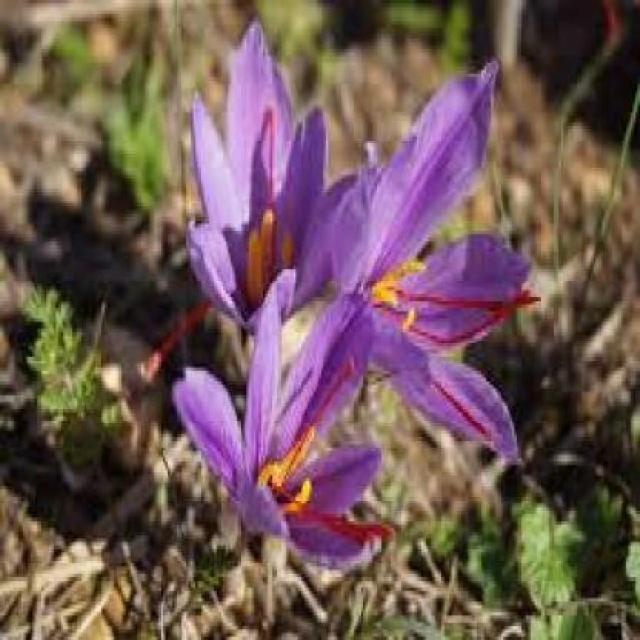saffron open: (177, 280, 379, 571), (188, 22, 350, 325), (371, 235, 531, 461), (345, 64, 498, 282)
